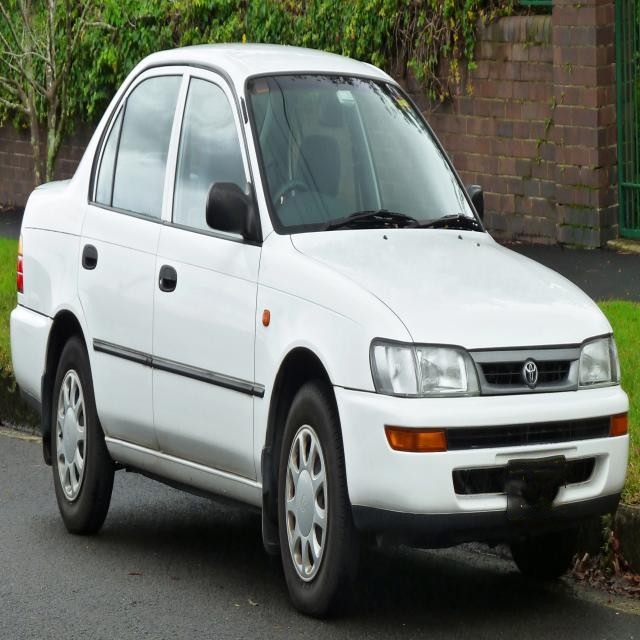car: (16, 44, 619, 621)
